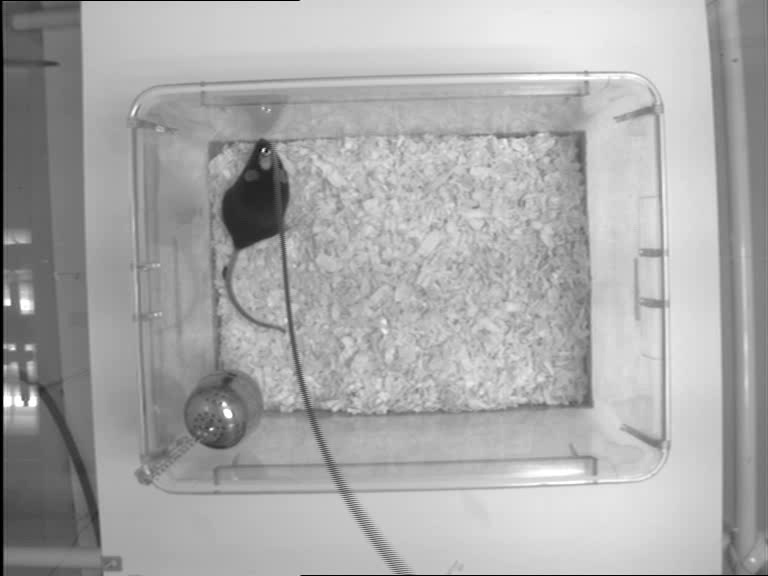mice: (220, 135, 291, 335)
